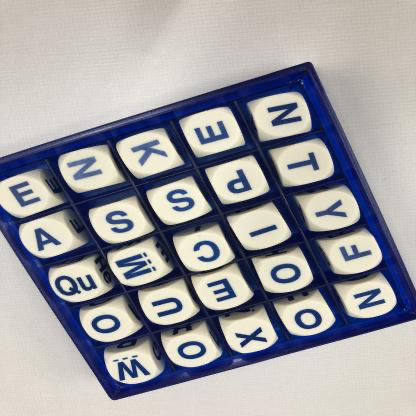a: (22, 221, 74, 257)
c: (178, 234, 231, 271)
e: (186, 111, 241, 151), (3, 178, 51, 213), (200, 273, 249, 307)
f: (331, 235, 382, 271)
i: (234, 212, 287, 248)
k: (121, 133, 177, 171)
m: (111, 249, 165, 285)
n: (254, 96, 311, 137), (58, 149, 116, 189), (346, 282, 396, 318)
o: (284, 300, 336, 337), (260, 257, 311, 294), (83, 307, 132, 343), (166, 334, 214, 369)
p: (209, 162, 264, 200)
qu: (52, 264, 104, 304)
s: (152, 181, 207, 222), (95, 202, 146, 240)
t: (278, 145, 333, 181)
u: (143, 289, 194, 325)
w: (108, 351, 158, 385)
x: (229, 318, 276, 352)
y: (306, 193, 360, 228)
